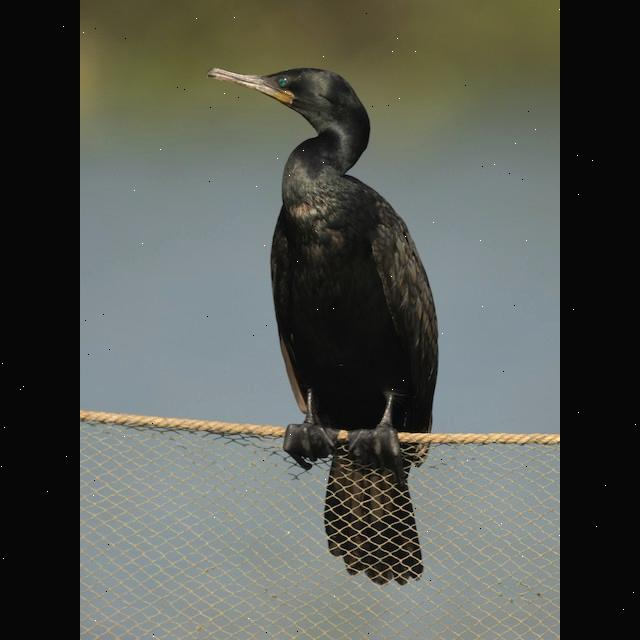cormorant: (180, 52, 468, 588)
